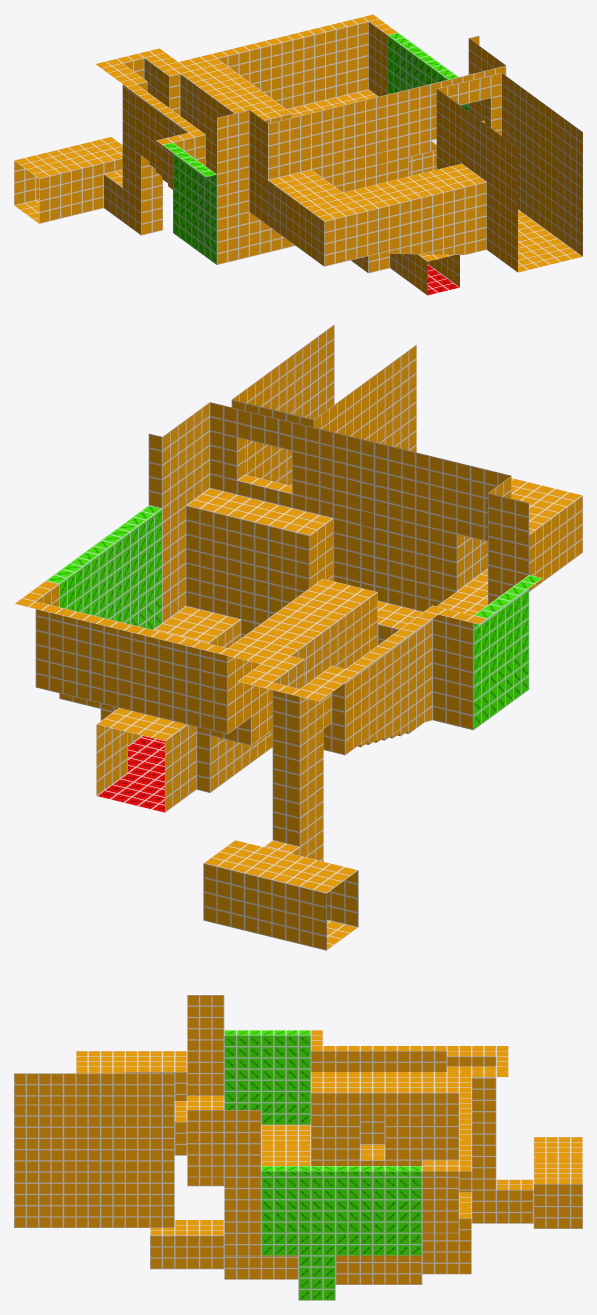
The model's file is swearingen_project1_whitebox.fbx.
The picture shows the model from 3 angles, top to bottom: view 1: azimuth 30°, elevation 25°; view 2: azimuth 150°, elevation 25°; view 3: azimuth 270°, elevation 25°; orthographic projection. The views are drawn at different scales.
Parts seen in each view (by area): view 1: pCube1; view 2: pCube1; view 3: pCube1.
Part boxes in pixels (x1,y1,x2,y2): pCube1: (14, 14, 582, 295); pCube1: (14, 324, 582, 950); pCube1: (14, 995, 582, 1300).
Bounding box in the file's own units: 28 × 19 × 46.
